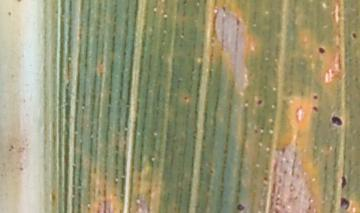tarspot: (339, 196, 350, 212), (330, 115, 344, 127), (340, 175, 347, 189), (236, 203, 245, 213), (255, 98, 263, 107), (317, 45, 325, 54), (351, 31, 358, 40), (312, 105, 319, 113), (182, 95, 188, 102), (312, 94, 319, 100), (208, 168, 214, 175)
